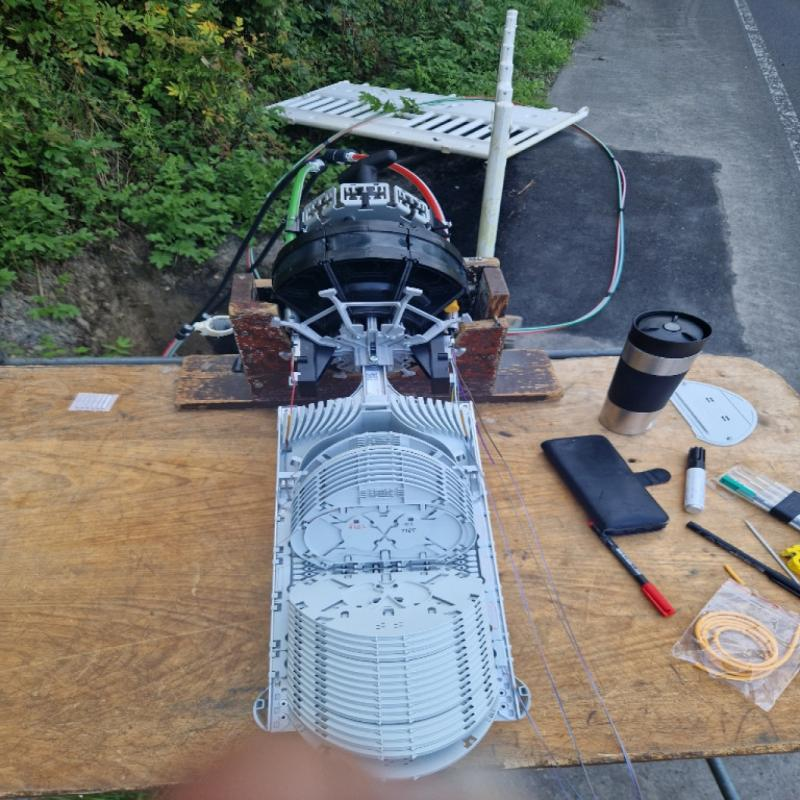NT-Muffen: (245, 174, 508, 771)
